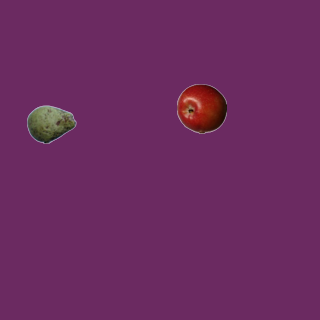Apple Braeburn: (176, 83, 226, 133)
Pear Stone: (26, 99, 76, 149)
